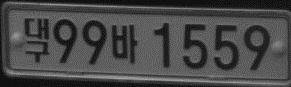1: (149, 21, 176, 68)
5: (181, 23, 207, 69), (213, 24, 239, 70)
9: (243, 24, 270, 70), (51, 18, 78, 63), (81, 19, 108, 64)
대구_V: (23, 16, 50, 62)
바: (110, 23, 138, 63)
